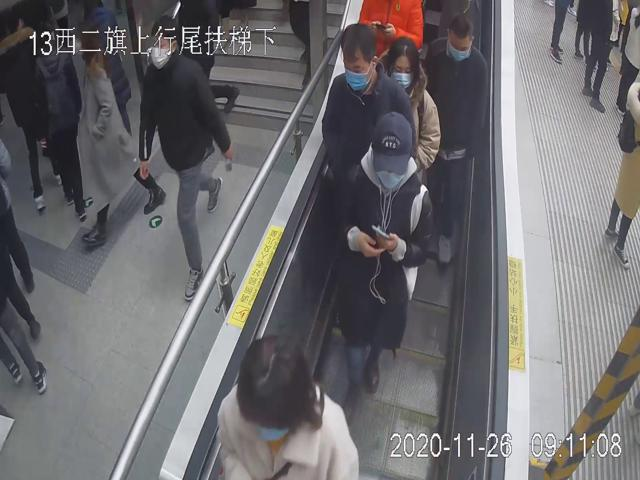person: (324, 110, 432, 422), (137, 14, 233, 303), (423, 13, 489, 267), (320, 20, 417, 181), (374, 31, 441, 188)
